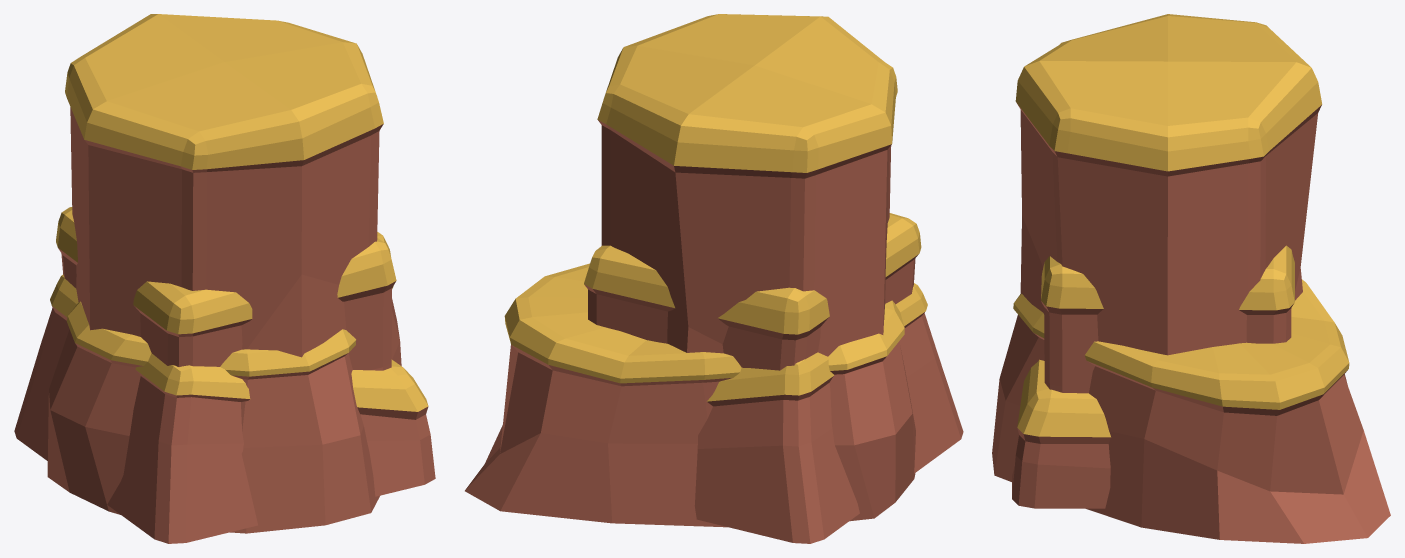
The model's file is Hills.fbx.
3 renders of one model, left to right at view 1: azimuth 30°, elevation 25°; view 2: azimuth 150°, elevation 25°; view 3: azimuth 270°, elevation 25°, orthographic. The views are drawn at different scales.
Parts seen in each view (by area): view 1: hill04, hill03, hill02, hill01; view 2: hill04, hill03, hill02, hill01; view 3: hill04, hill03, hill02, hill01.
Boxes of the visible parts, left/top/right/bottom form: hill04: left=65, top=14, right=383, bottom=357; hill03: left=47, top=232, right=401, bottom=533; hill02: left=14, top=274, right=435, bottom=543; hill01: left=56, top=207, right=396, bottom=370; hill04: left=597, top=14, right=897, bottom=356; hill03: left=465, top=263, right=915, bottom=527; hill02: left=694, top=283, right=963, bottom=543; hill01: left=584, top=213, right=921, bottom=370; hill04: left=1015, top=14, right=1322, bottom=355; hill03: left=992, top=279, right=1390, bottom=543; hill02: left=1012, top=359, right=1111, bottom=508; hill01: left=1041, top=245, right=1294, bottom=393.
Bounding box in the file's own units: 326 × 348 × 323.
